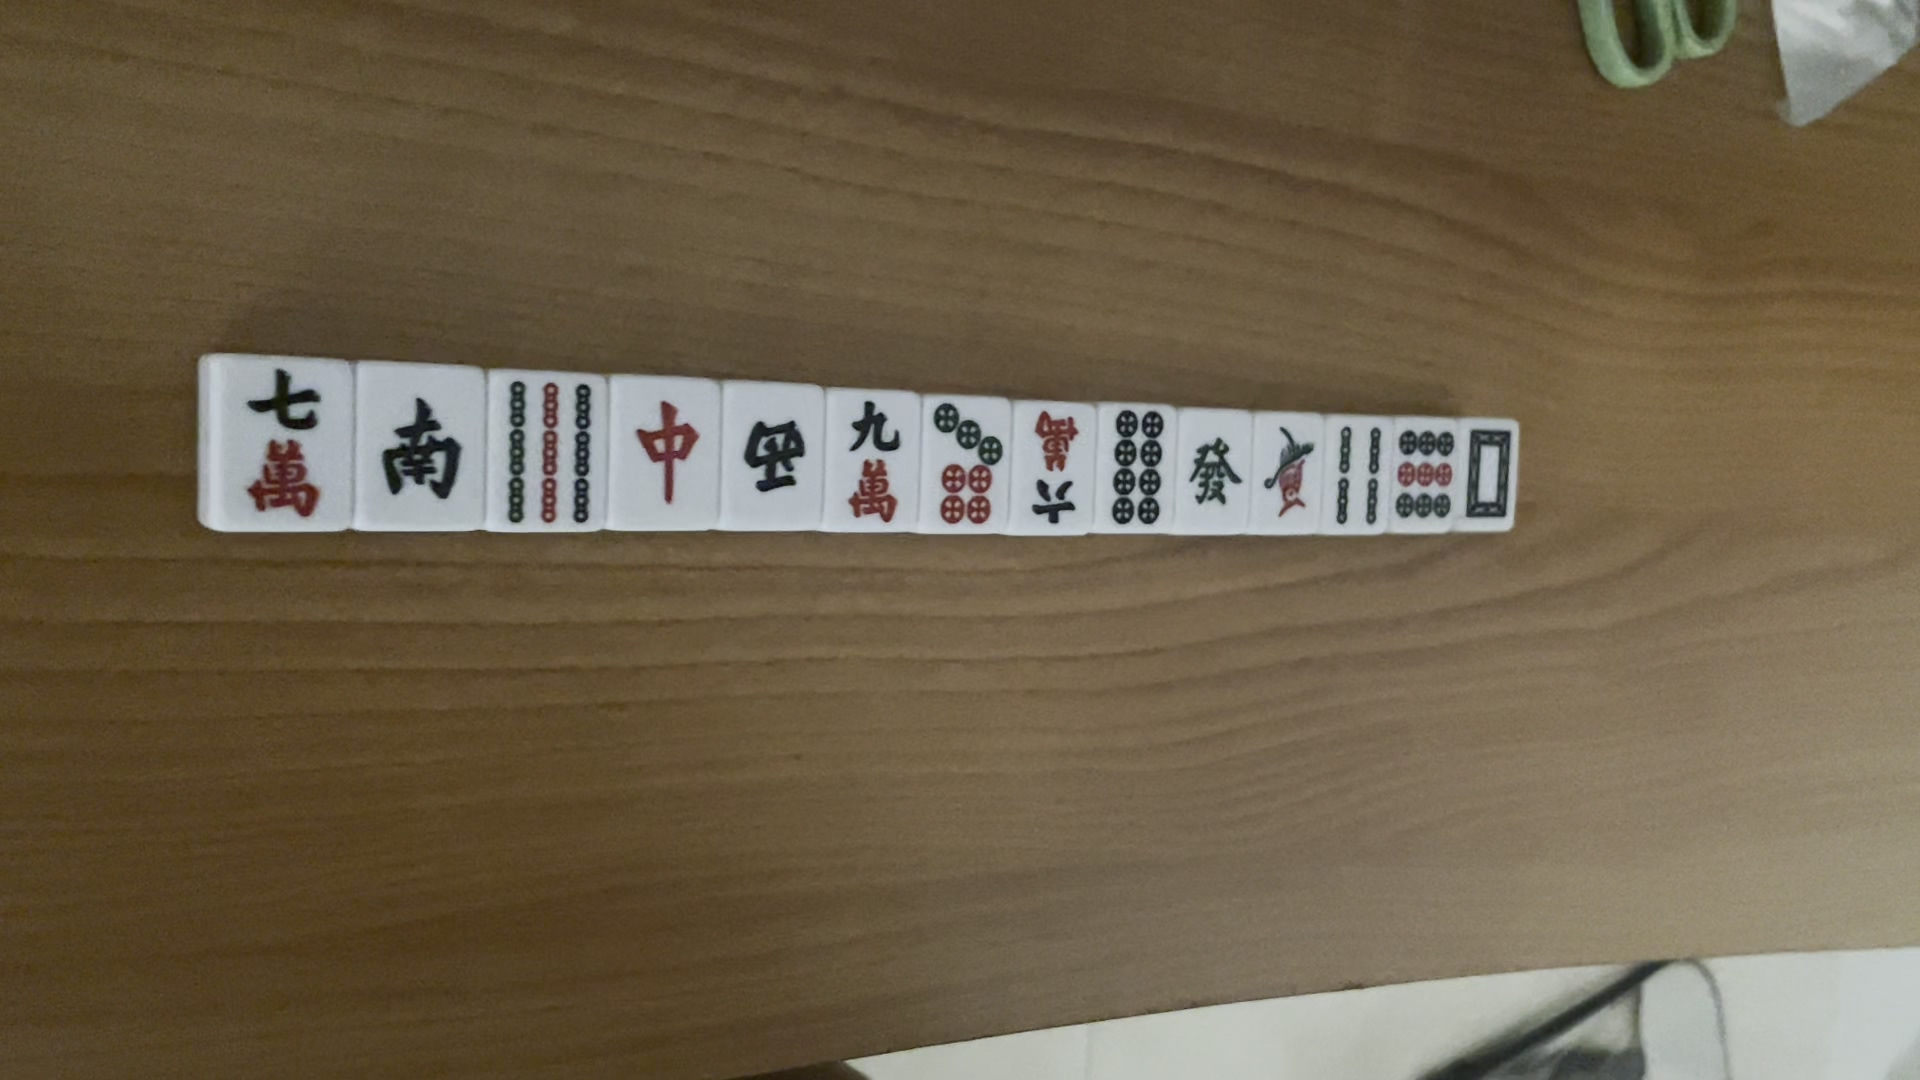b-1: (1262, 418, 1320, 521)
b-4: (1328, 422, 1385, 530)
b-9: (491, 376, 603, 527)
c-6: (1021, 405, 1083, 527)
c-7: (231, 367, 334, 525)
c-9: (836, 393, 905, 527)
d-7: (924, 401, 1004, 531)
d-8: (1106, 406, 1170, 531)
d-9: (1396, 422, 1455, 522)
honors-green: (1184, 438, 1247, 512)
honors-red: (625, 382, 709, 512)
honors-south: (373, 382, 468, 509)
honors-west: (741, 411, 816, 512)
honors-white: (1461, 421, 1518, 527)
